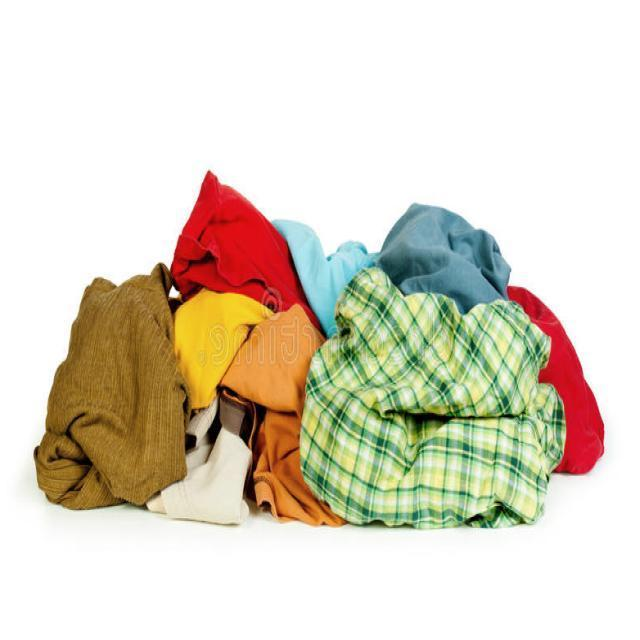clothes: (123, 280, 514, 494)
